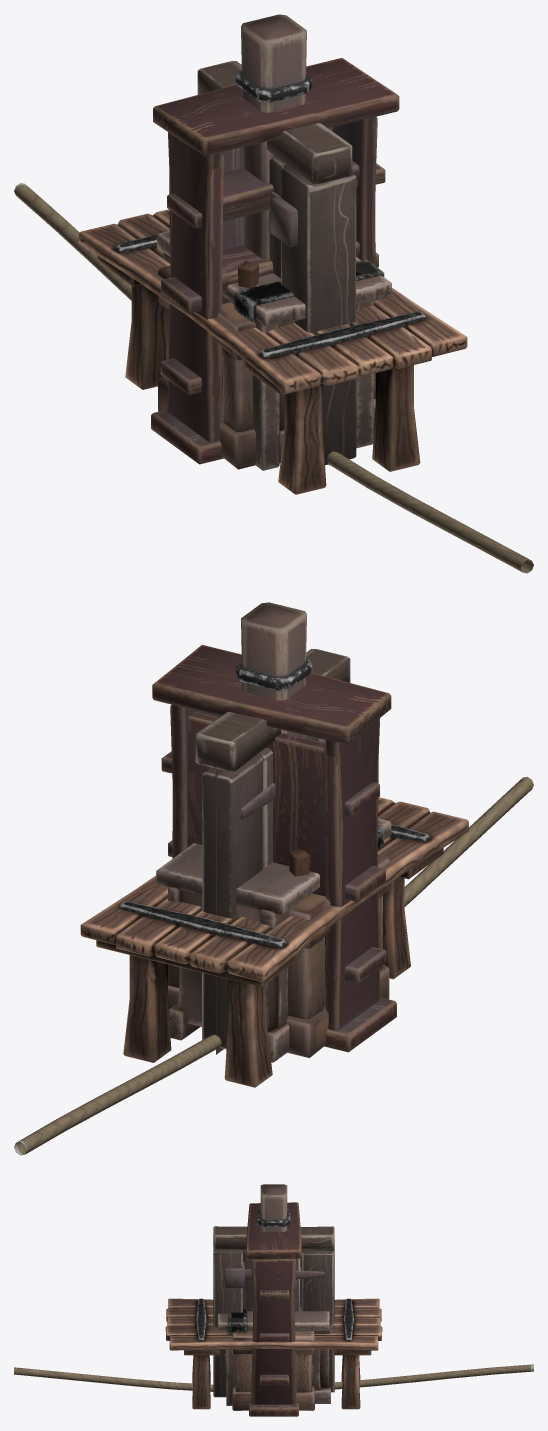
The model's file is tavern_props.glb.
3 views of the same model, one above another, from view 1: azimuth 30°, elevation 25°; view 2: azimuth 150°, elevation 25°; view 3: azimuth 270°, elevation 25° (orthographic). The views are drawn at different scales.
Parts seen in each view (by area): view 1: table_long, sideboard, door, table_round, beam, rope, cupboard, crate, shelf; view 2: table_long, sideboard, door, table_round, shelf, rope, crate, beam, cupboard; view 3: table_long, door, shelf, sideboard, table_round, rope, crate, cupboard, beam.
Part boxes in pixels (x1,y1,x2,y2): table_long: [79, 209, 467, 494]; sideboard: [151, 58, 399, 464]; door: [197, 61, 356, 465]; table_round: [157, 230, 391, 470]; beam: [235, 14, 312, 259]; rope: [14, 183, 533, 573]; cupboard: [160, 118, 385, 418]; crate: [158, 266, 375, 469]; shelf: [222, 127, 375, 293]; table_long: [80, 797, 468, 1087]; sideboard: [152, 645, 396, 1052]; door: [195, 649, 350, 1054]; table_round: [156, 818, 391, 1062]; shelf: [171, 705, 325, 989]; rope: [14, 777, 533, 1155]; crate: [168, 854, 389, 1057]; beam: [235, 602, 312, 738]; cupboard: [161, 706, 386, 1008]; table_long: [165, 1298, 382, 1409]; door: [213, 1226, 334, 1397]; shelf: [254, 1259, 294, 1404]; sideboard: [246, 1202, 301, 1416]; table_round: [217, 1306, 330, 1405]; rope: [14, 1364, 533, 1391]; crate: [232, 1331, 314, 1410]; cupboard: [252, 1259, 295, 1404]; beam: [257, 1184, 290, 1231].
Size of the model in its own units: 1.14 by 2.16 by 5.02.
Materials: 10 (10 with a texture image).
